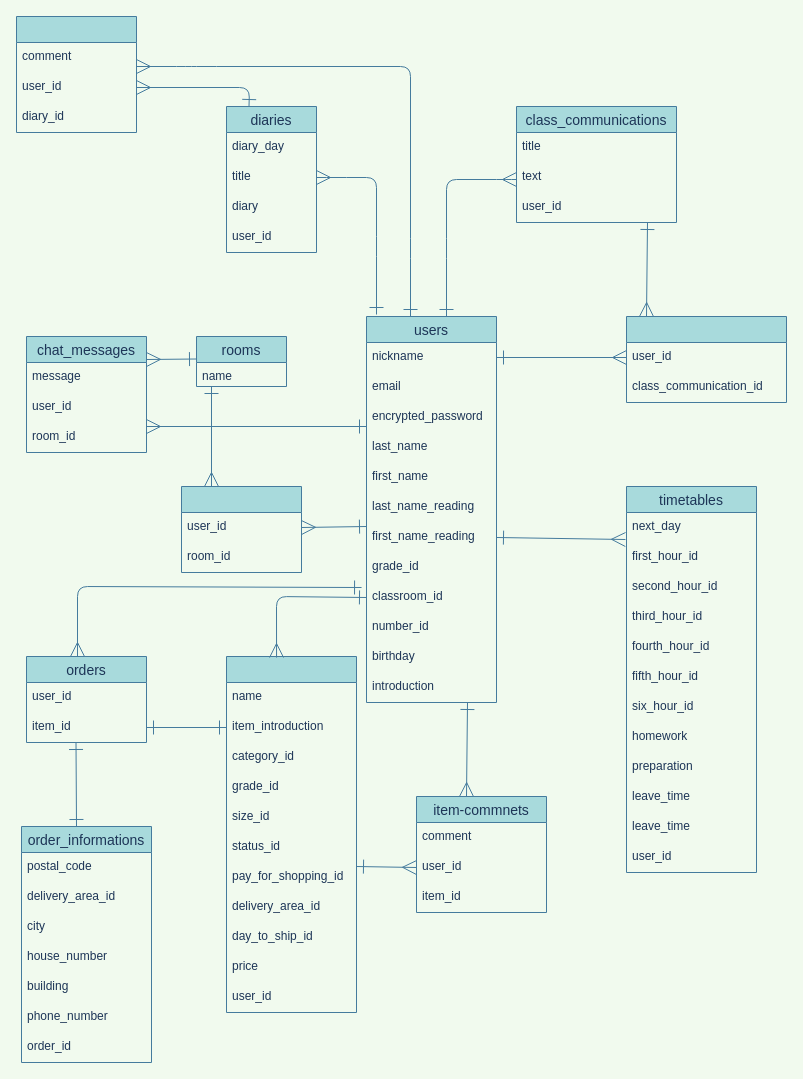
The diagram is 803 pixels wide and 1079 high, and some of its shapes have lost their labels. Each missing label, with the box of its shape:
commnets: (16, 16, 136, 132)
items: (226, 656, 356, 1012)
likes: (626, 316, 786, 402)
room_users: (180, 486, 302, 572)
